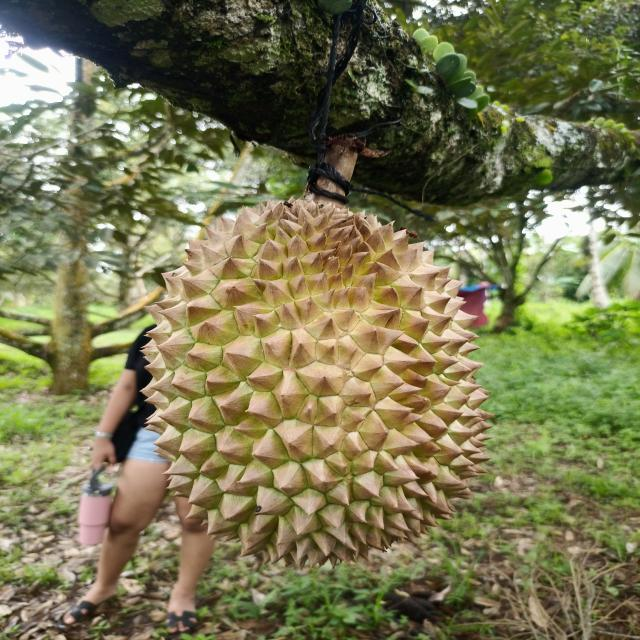mature: (143, 196, 495, 572)
